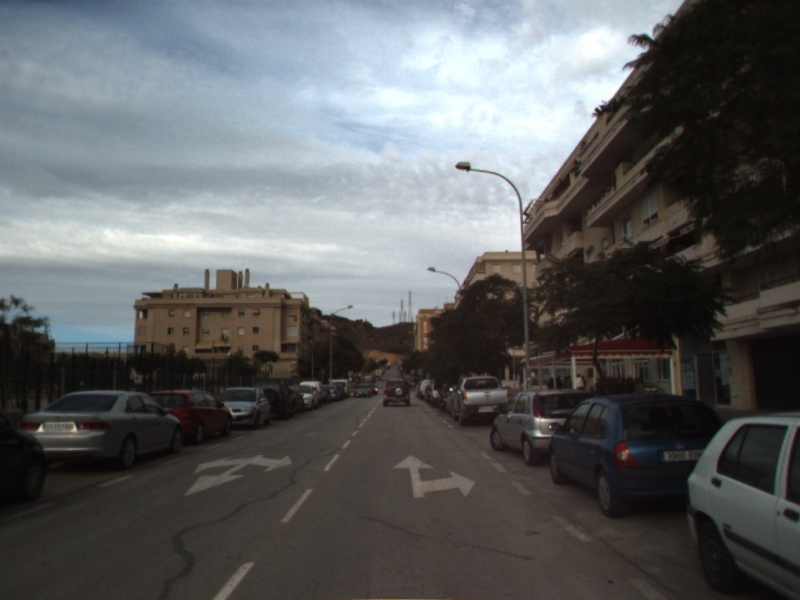STRAIGHT_RIGHT: (391, 453, 478, 500)
